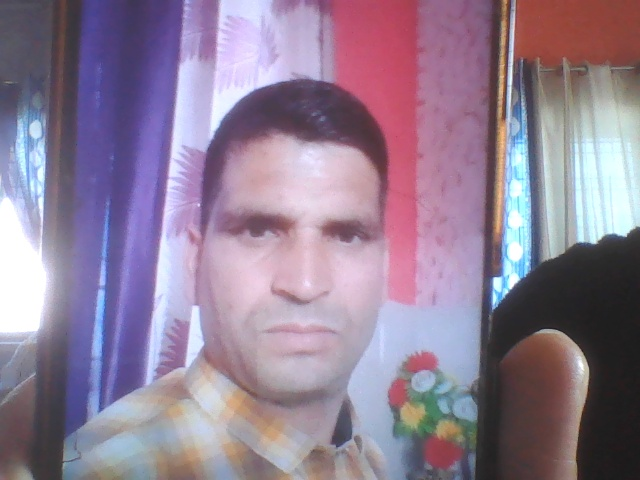fake: (175, 55, 423, 406)
